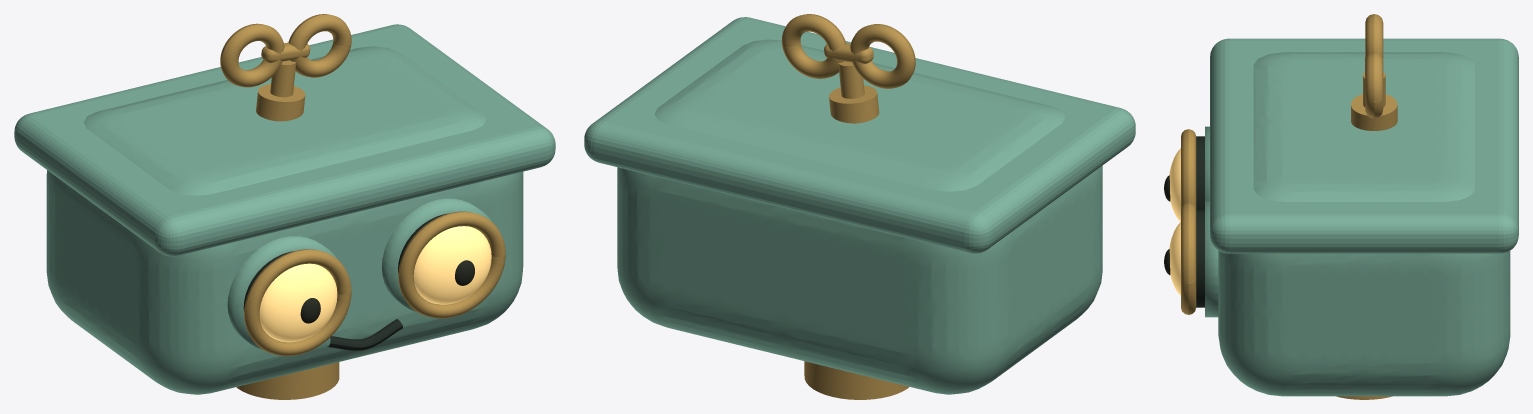
The model's file is hotshot-head-0.glb.
3 views of the same model, side by side, from view 1: azimuth 30°, elevation 25°; view 2: azimuth 150°, elevation 25°; view 3: azimuth 270°, elevation 25° (orthographic). The views are drawn at different scales.
Visible parts, largest first — view 1: head_clay, head_paint, head_hardware (×4); view 2: head_clay, head_paint, head_hardware; view 3: head_clay, head_paint, head_hardware (×3).
Boxes of the visible parts, <box> form: head_clay: <box>46,46,523,394</box>; head_paint: <box>14,24,555,366</box>; head_hardware (×4): <box>220,14,505,399</box>; head_clay: <box>617,39,1102,394</box>; head_paint: <box>584,17,1135,365</box>; head_hardware: <box>781,14,915,399</box>; head_clay: <box>1205,52,1510,396</box>; head_paint: <box>1210,38,1518,253</box>; head_hardware (×3): <box>1169,14,1397,399</box>.
Bounding box in the file's own units: 1.41 × 1.2 × 1.11.
